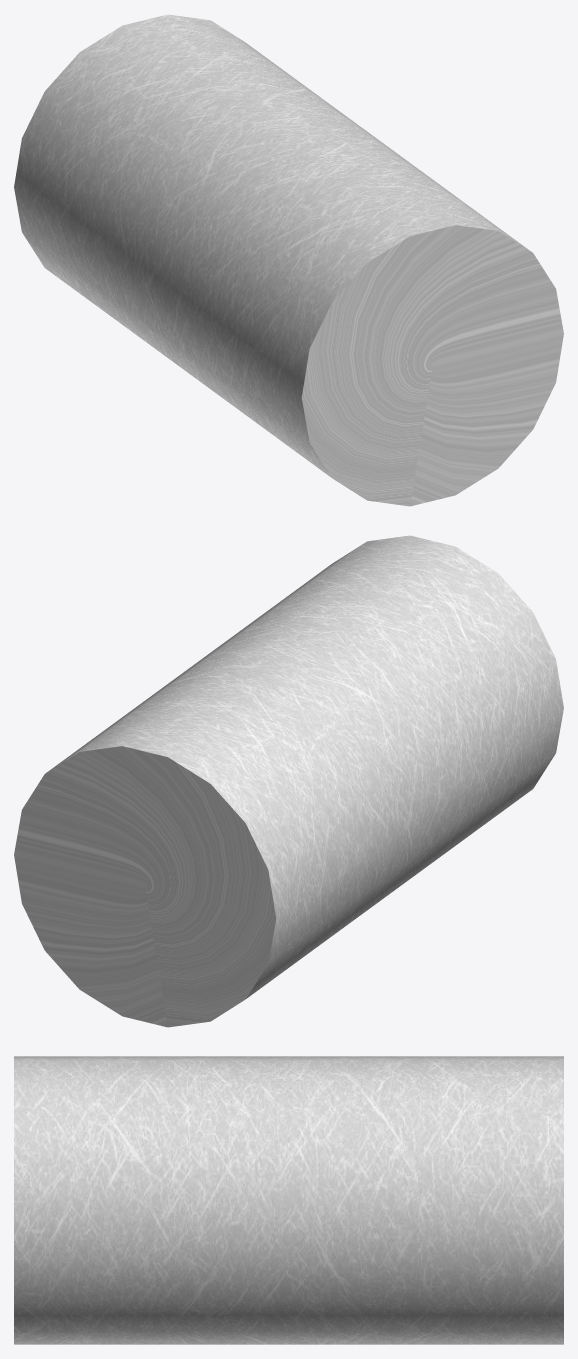
File: necktilttextured.dae
3 renders of one model, top to bottom at view 1: azimuth 30°, elevation 25°; view 2: azimuth 150°, elevation 25°; view 3: azimuth 270°, elevation 25°, orthographic. The views are drawn at different scales.
Parts seen in each view (by area): view 1: Cylinder01; view 2: Cylinder01; view 3: Cylinder01.
Boxes of the visible parts, x1=… form: Cylinder01: x1=14, y1=14, x2=563, y2=506; Cylinder01: x1=14, y1=535, x2=563, y2=1027; Cylinder01: x1=14, y1=1056, x2=563, y2=1344.
Size of the model in its own units: 7.62 by 7.5 by 14.48.
Materials: 1 (1 with a texture image).
